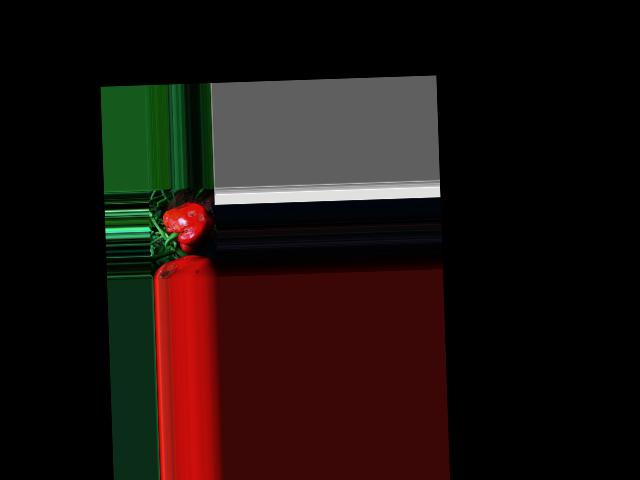bell_pepper: (157, 203, 217, 254)
